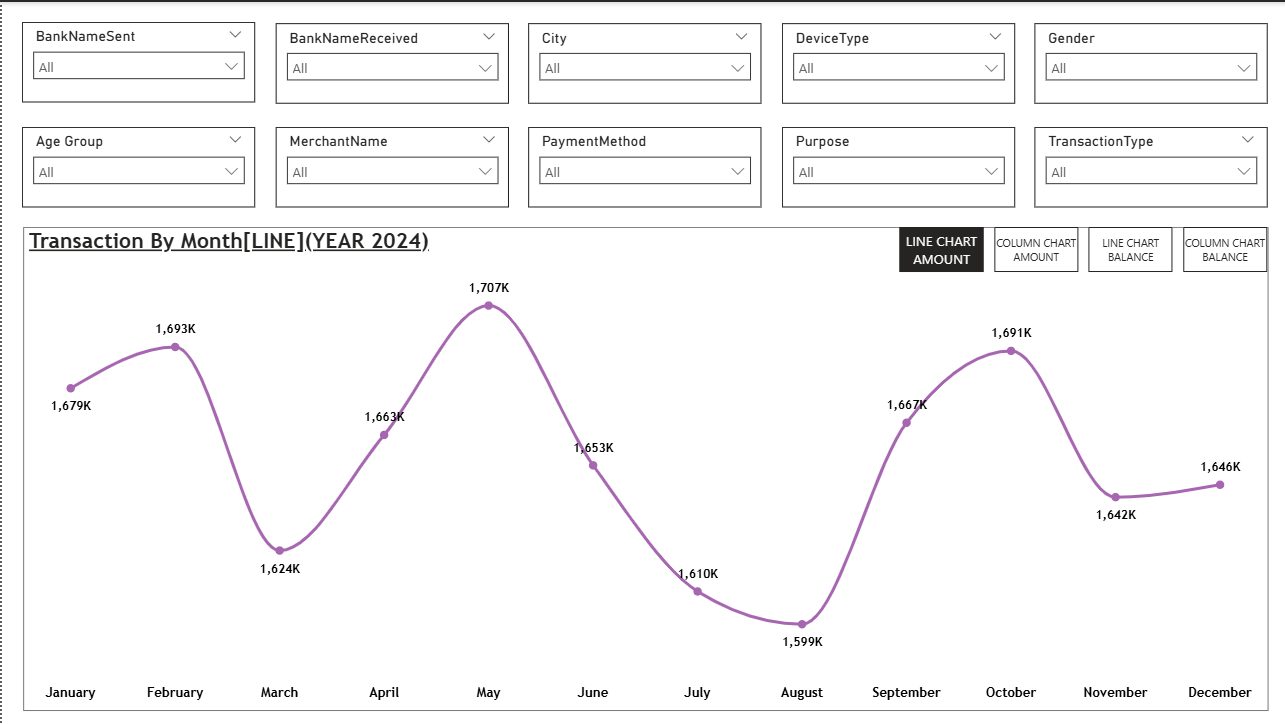

This screenshot's page, from the dashboard's own definition file:
{"tool":"powerbi","page":{"name":"Page 1","canvas":[1280,720],"ordinal":0},"visuals":[{"type":"slicer","fields":{"Values":["UPI TRANSACTION.BankNameSent"]},"box":[20,20,232,80],"z":0},{"type":"slicer","fields":{"Values":["UPI TRANSACTION.BankNameReceived"]},"box":[272,20.6,232,80],"z":1000},{"type":"slicer","fields":{"Values":["UPI TRANSACTION.City"]},"box":[524,20.6,232,80],"z":2000},{"type":"slicer","fields":{"Values":["UPI TRANSACTION.DeviceType"]},"box":[776,20.6,232,80],"z":3000},{"type":"slicer","fields":{"Values":["UPI TRANSACTION.Gender"]},"box":[1028,20.6,232,80],"z":4000},{"type":"slicer","fields":{"Values":["UPI TRANSACTION.Age Group"]},"box":[20,124.4,232,80],"z":5000},{"type":"slicer","fields":{"Values":["UPI TRANSACTION.MerchantName"]},"box":[272,125,232,80],"z":6000},{"type":"slicer","fields":{"Values":["UPI TRANSACTION.PaymentMethod"]},"box":[524,125,232,80],"z":7000},{"type":"slicer","fields":{"Values":["UPI TRANSACTION.Purpose"]},"box":[776,125,232,80],"z":8000},{"type":"slicer","fields":{"Values":["UPI TRANSACTION.TransactionType"]},"box":[1028,125,232,80],"z":9000},{"type":"lineChart","title":"Transaction By Month[LINE](YEAR 2024)","fields":{"Y":["Sum(UPI TRANSACTION.Amount)"],"Category":["UPI TRANSACTION.TransactionDate.Variation.Date Hierarchy.Month"]},"box":[20.6,223.7,1239.1,481.6],"z":10000},{"type":"bookmarkNavigator","box":[892.6,224.3,367.3,45.2],"z":14000}]}

Visuals, with their boxes in screenshot pixels (x1, y1, x2, y2), scaled from the page's 1280x720 canvas onto the 1285x724 screenshot:
slicer - UPI TRANSACTION.BankNameSent: <region>20, 20, 253, 101</region>
slicer - UPI TRANSACTION.BankNameReceived: <region>273, 21, 506, 101</region>
slicer - UPI TRANSACTION.City: <region>526, 21, 759, 101</region>
slicer - UPI TRANSACTION.DeviceType: <region>779, 21, 1012, 101</region>
slicer - UPI TRANSACTION.Gender: <region>1032, 21, 1265, 101</region>
slicer - UPI TRANSACTION.Age Group: <region>20, 125, 253, 206</region>
slicer - UPI TRANSACTION.MerchantName: <region>273, 126, 506, 206</region>
slicer - UPI TRANSACTION.PaymentMethod: <region>526, 126, 759, 206</region>
slicer - UPI TRANSACTION.Purpose: <region>779, 126, 1012, 206</region>
slicer - UPI TRANSACTION.TransactionType: <region>1032, 126, 1265, 206</region>
"Transaction By Month[LINE](YEAR 2024)" lineChart: <region>21, 225, 1265, 709</region>
bookmarkNavigator: <region>896, 226, 1265, 271</region>
